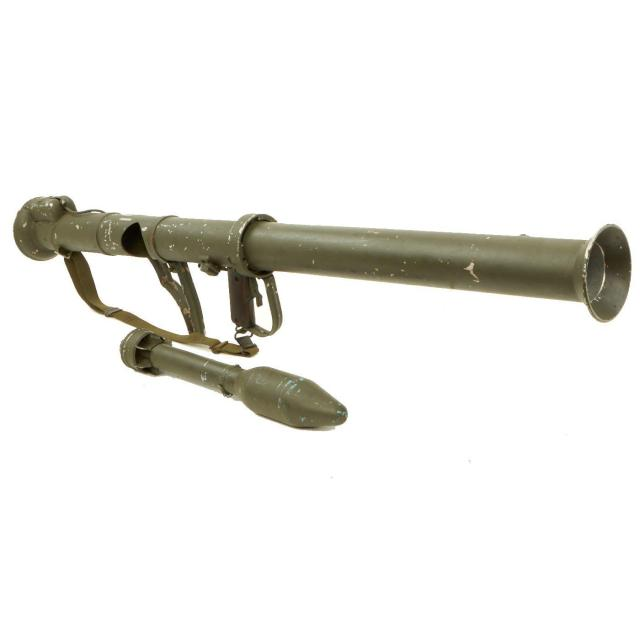bazooka: (5, 186, 640, 447)
